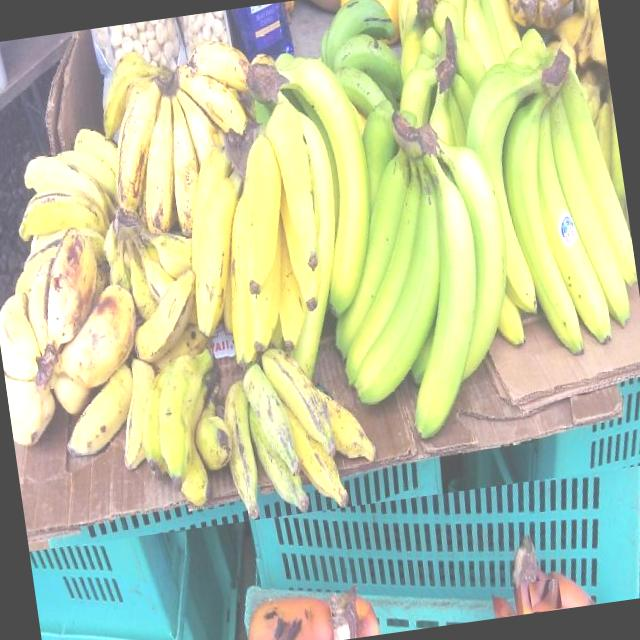Banana: (160, 44, 397, 388), (306, 104, 536, 452), (450, 22, 640, 360), (94, 27, 274, 225), (0, 215, 151, 449), (213, 338, 383, 512), (537, 566, 599, 612), (489, 574, 534, 618), (528, 579, 562, 613), (492, 590, 517, 618), (513, 583, 533, 615)
